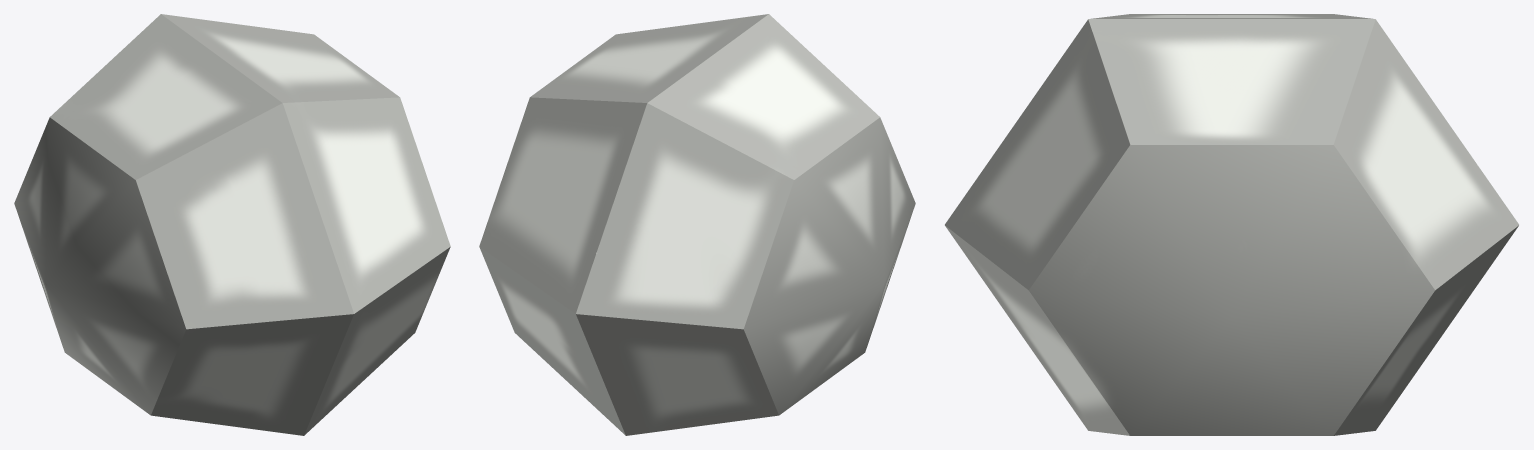
The model's file is Shoulder L.001.fbx.
The picture shows the model from 3 angles, left to right: view 1: azimuth 30°, elevation 25°; view 2: azimuth 150°, elevation 25°; view 3: azimuth 270°, elevation 25°; orthographic projection. The views are drawn at different scales.
Parts seen in each view (by area): view 1: Shoulder L.001_Baked; view 2: Shoulder L.001_Baked; view 3: Shoulder L.001_Baked.
Boxes of the visible parts, x1,y1,x2,y2 form: Shoulder L.001_Baked: [14, 14, 450, 435]; Shoulder L.001_Baked: [479, 14, 915, 435]; Shoulder L.001_Baked: [945, 14, 1518, 435].
Bounding box in the file's own units: 60.62 × 52.37 × 68.33.
1 material, 1 textured.
